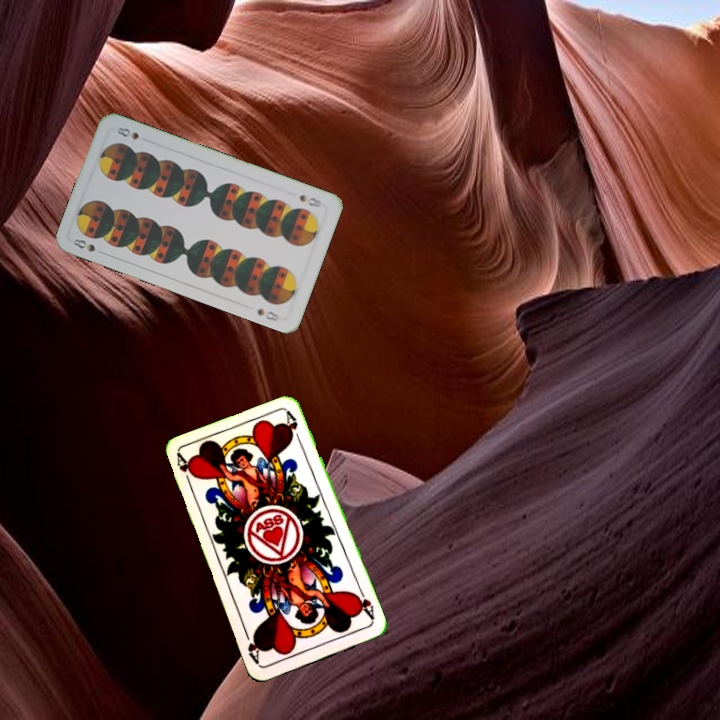HA: (350, 584, 377, 623), (172, 451, 198, 490)
S8: (295, 190, 325, 210), (69, 234, 98, 254)
